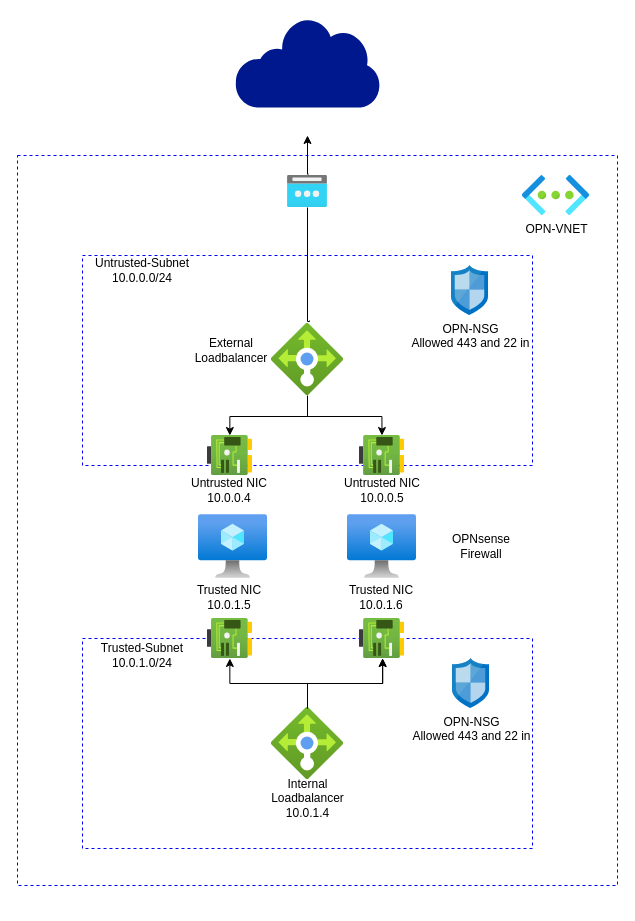
This 635x921 diagram has some shape labels left out. The shapes that lost their labels are listed below. From the top down, each one's centre as x and y in pixels, then its label:
At [307,62]: "Internet".
At [307,191]: "Dynamic Public IP".
